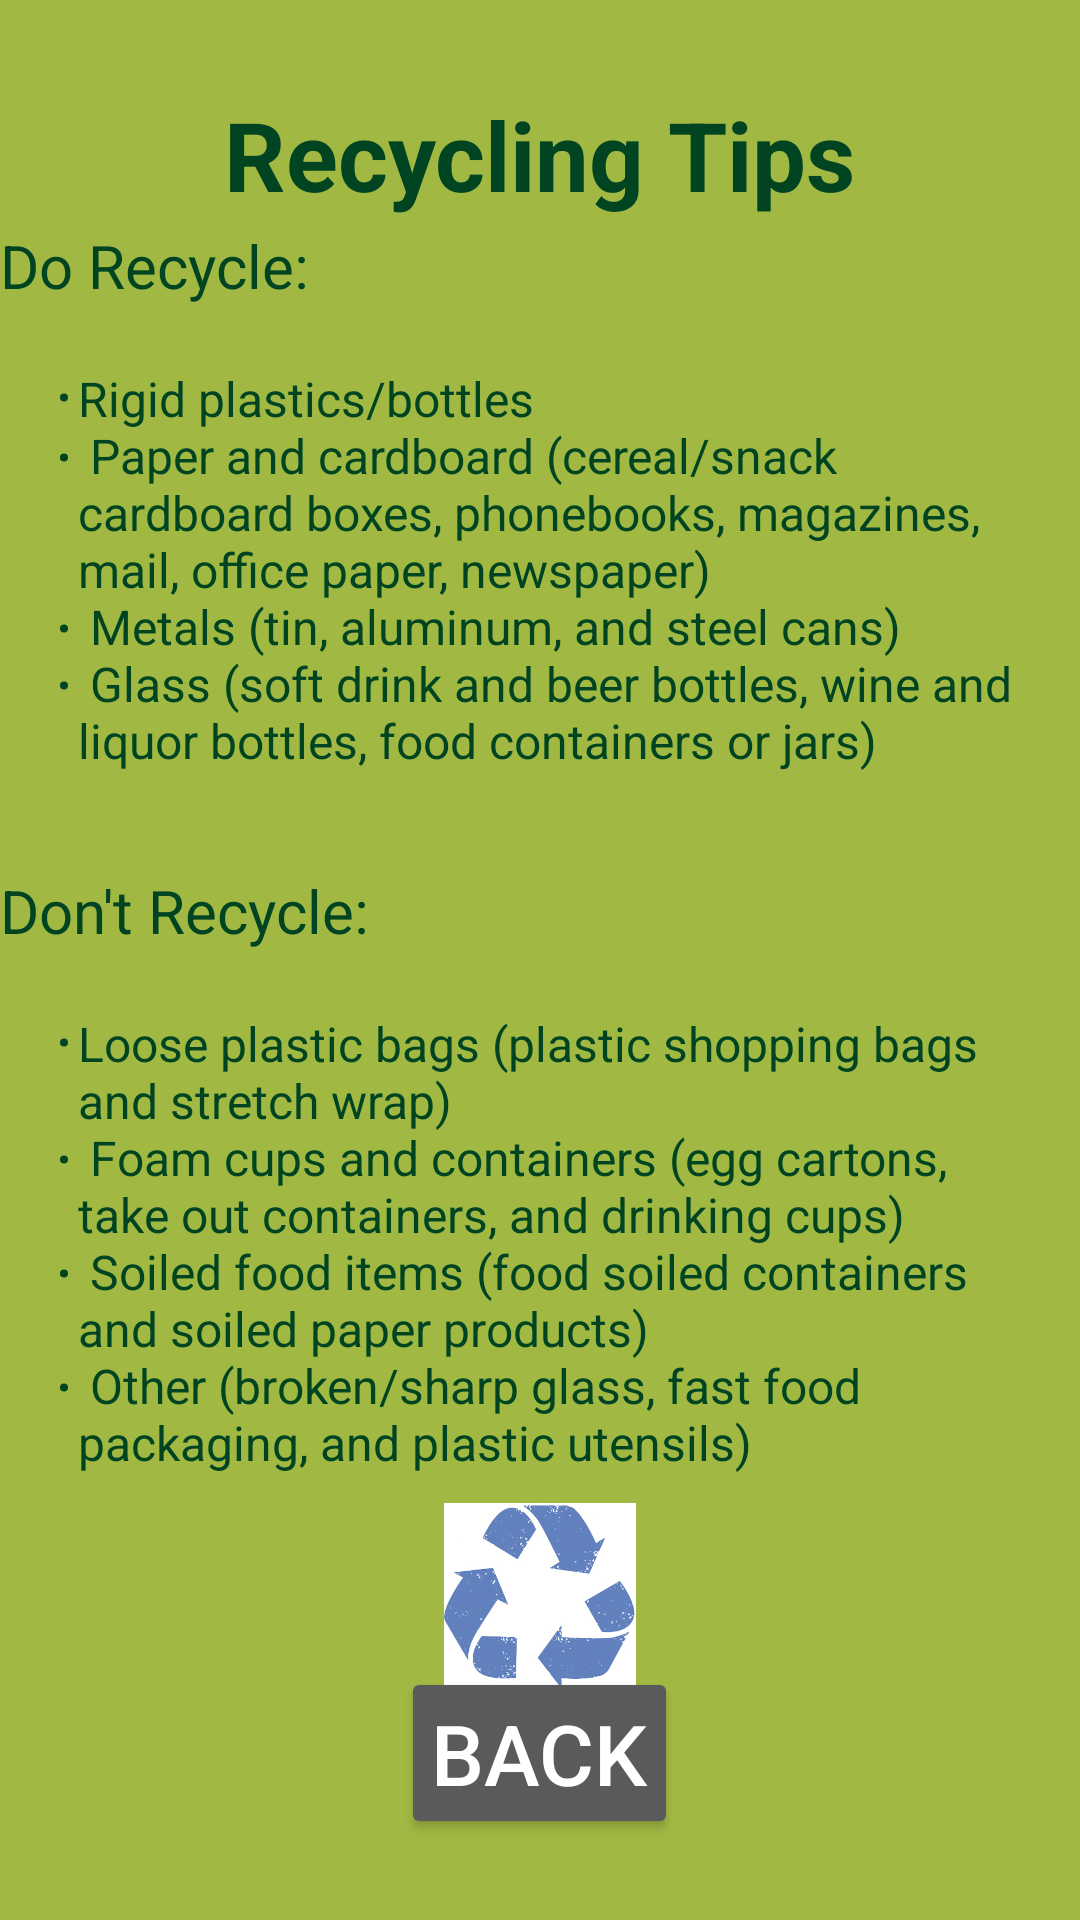

Screen size 1080 × 1920. Icon name, then its box in pixels as detection(x1, y1, x2, y2):
recycle: detection(444, 1503, 636, 1692)
